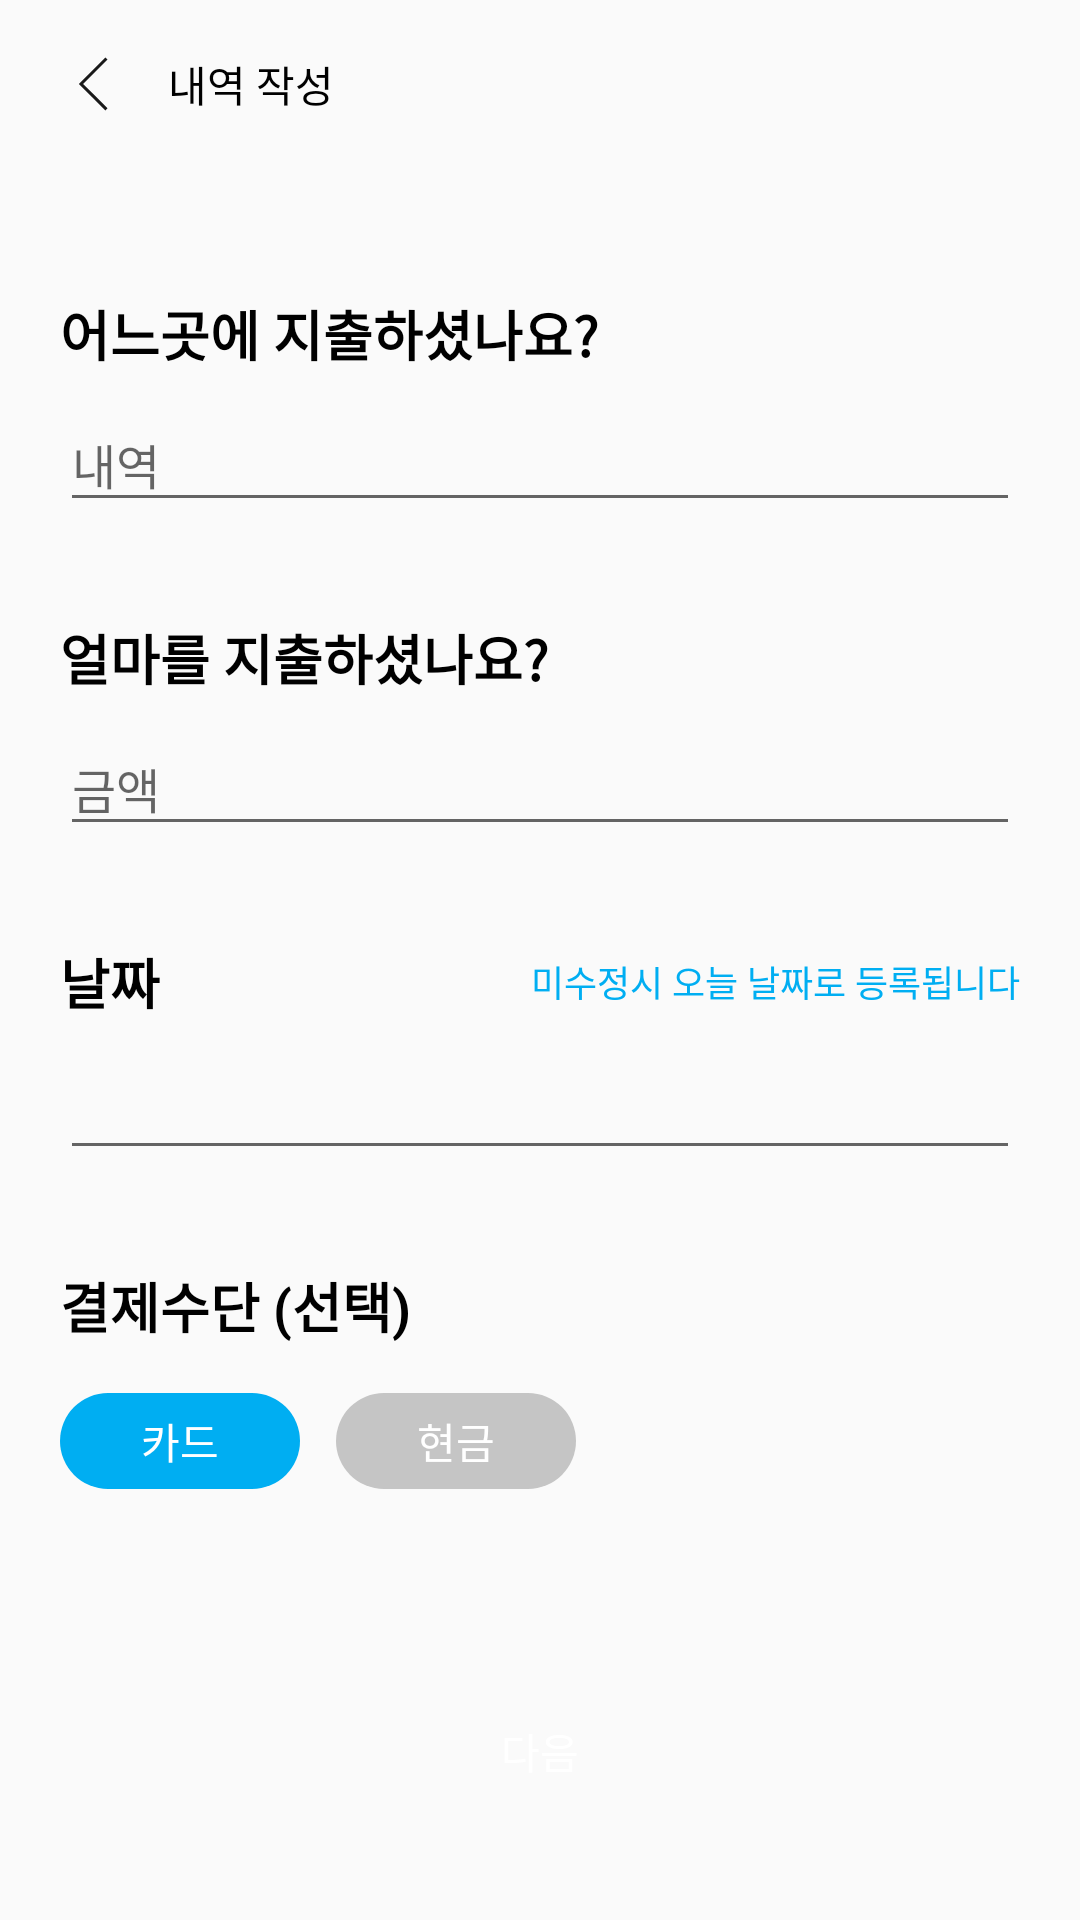

Screen size 1080 × 1920. Icon name, then its center in pixels as [x,y]:
back: [93,84]
